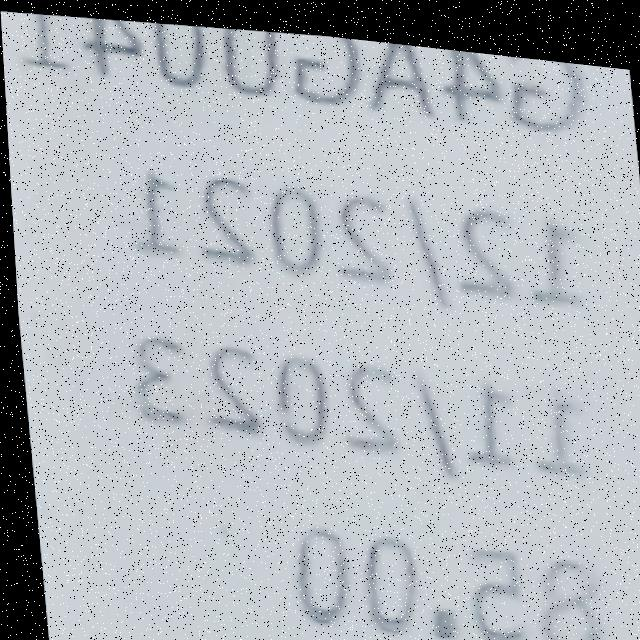sentence: (22, 13, 583, 119), (130, 334, 579, 466), (131, 166, 578, 298), (292, 521, 593, 640)
